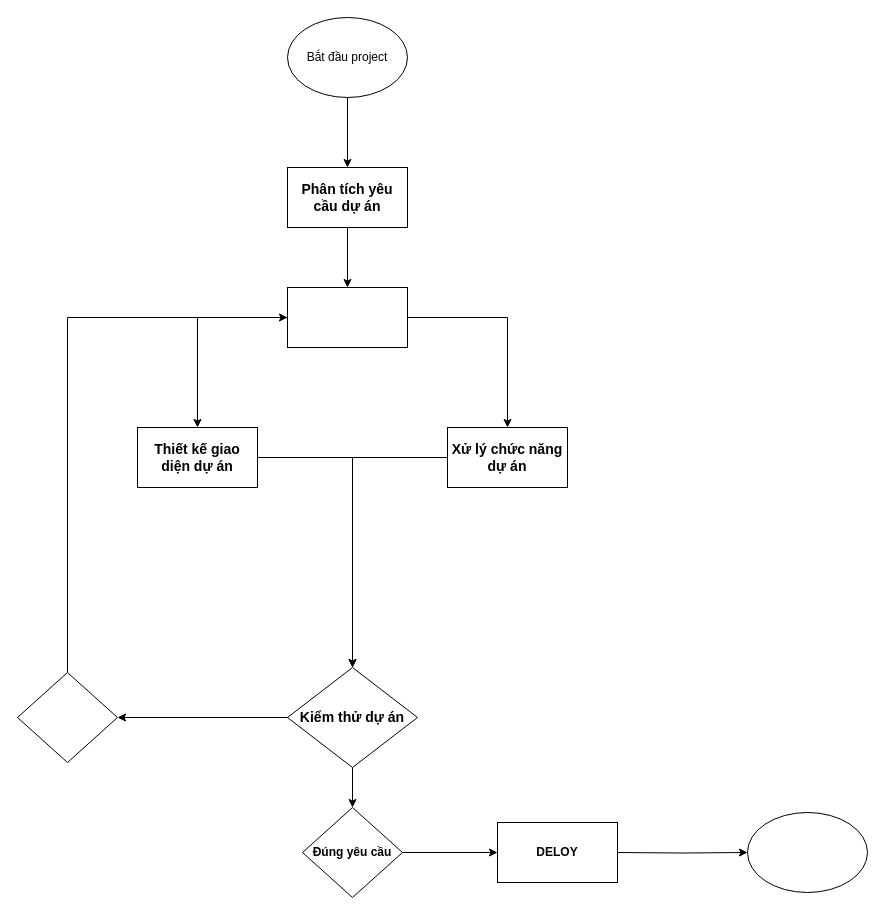
The diagram is 885 pixels wide and 915 high, and some of its shapes have lost their labels. The centre of each missing label's shape, as x and y in pixels:
"Kết thúc project" goes at point 807,852.
"Sai yêu cầu" goes at point 67,717.
"Triển khai dự án" goes at point 347,317.
